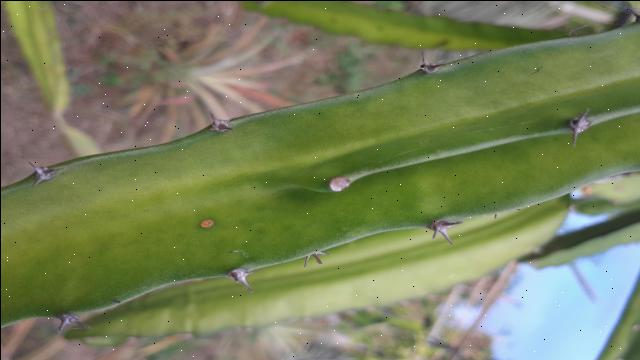stemcanker: (322, 175, 353, 196), (197, 217, 217, 232)
